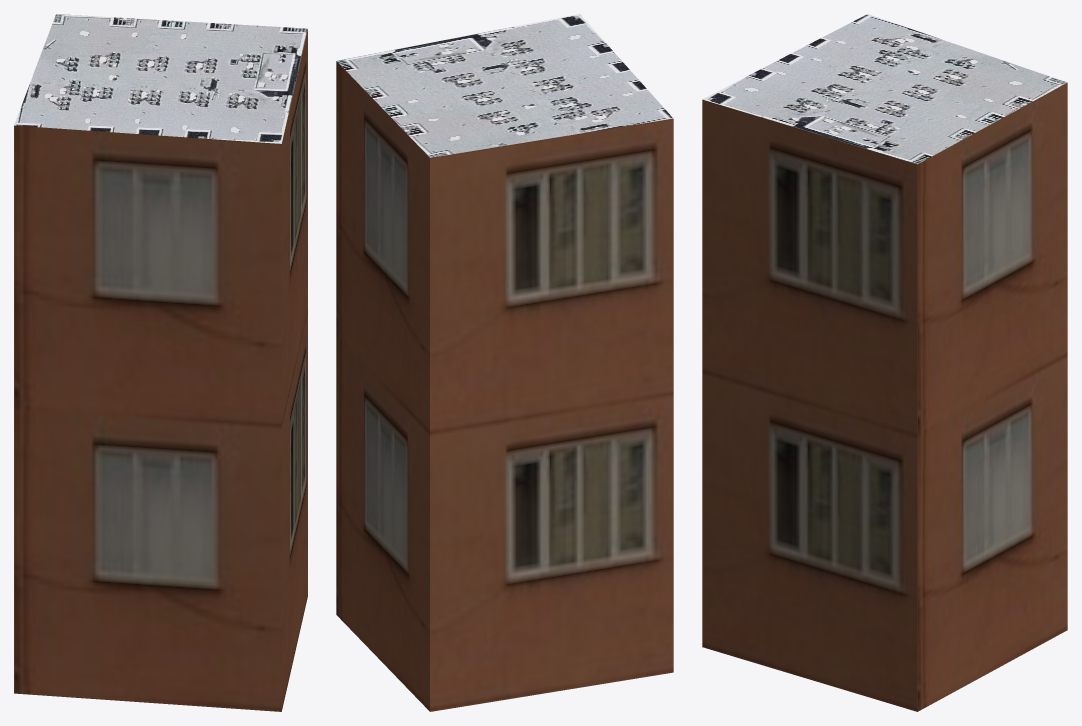
File: ResTex__2112.fbx
3 renders of one model, left to right at view 1: azimuth 30°, elevation 25°; view 2: azimuth 150°, elevation 25°; view 3: azimuth 270°, elevation 25°, orthographic. The views are drawn at different scales.
Parts seen in each view (by area): view 1: CityEngineMaterial_20_m, CityEngineMaterial_m; view 2: CityEngineMaterial_20_m, CityEngineMaterial_m; view 3: CityEngineMaterial_20_m, CityEngineMaterial_m.
Part boxes in pixels (x1=…): CityEngineMaterial_20_m: x1=14, y1=29, x2=307, y2=711; CityEngineMaterial_m: x1=14, y1=14, x2=307, y2=143; CityEngineMaterial_20_m: x1=336, y1=61, x2=673, y2=711; CityEngineMaterial_m: x1=337, y1=14, x2=673, y2=157; CityEngineMaterial_20_m: x1=702, y1=83, x2=1067, y2=711; CityEngineMaterial_m: x1=702, y1=14, x2=1067, y2=164.
Bounding box in the file's own units: 3.53 × 6 × 3.63.
2 materials, 2 textured.
